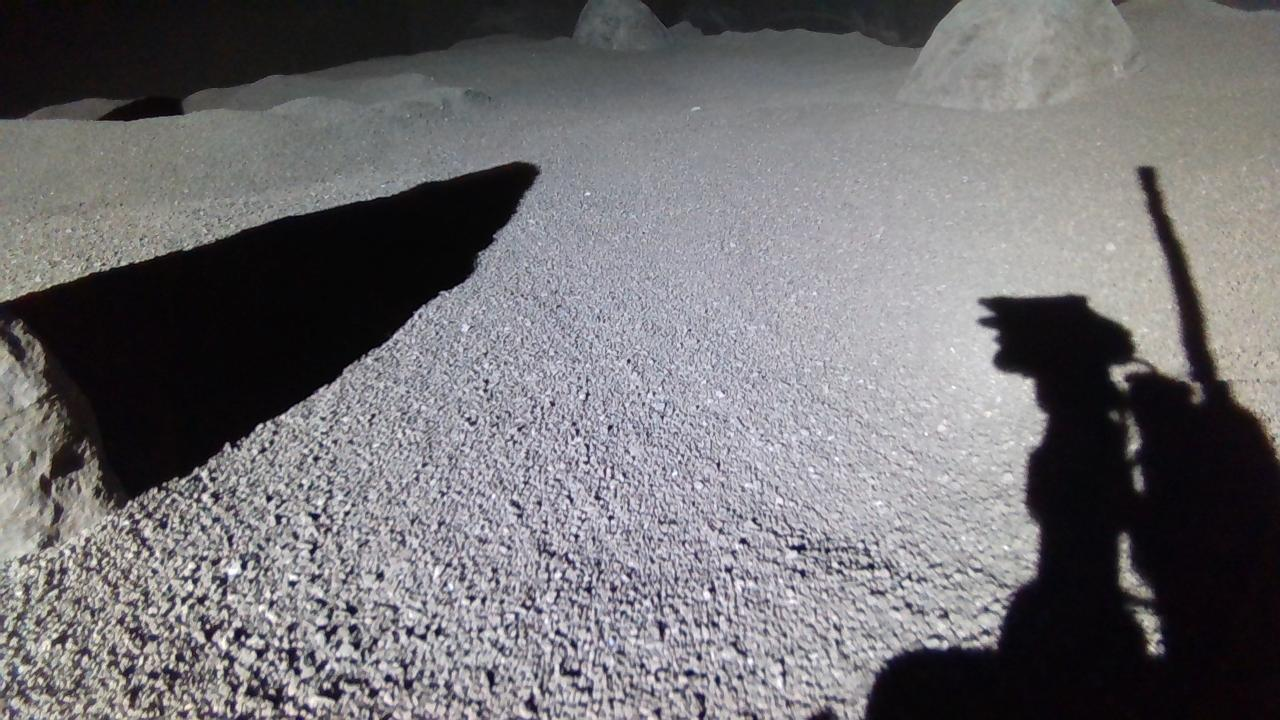rock: (0, 311, 126, 562), (900, 0, 1147, 109), (573, 0, 673, 49)
